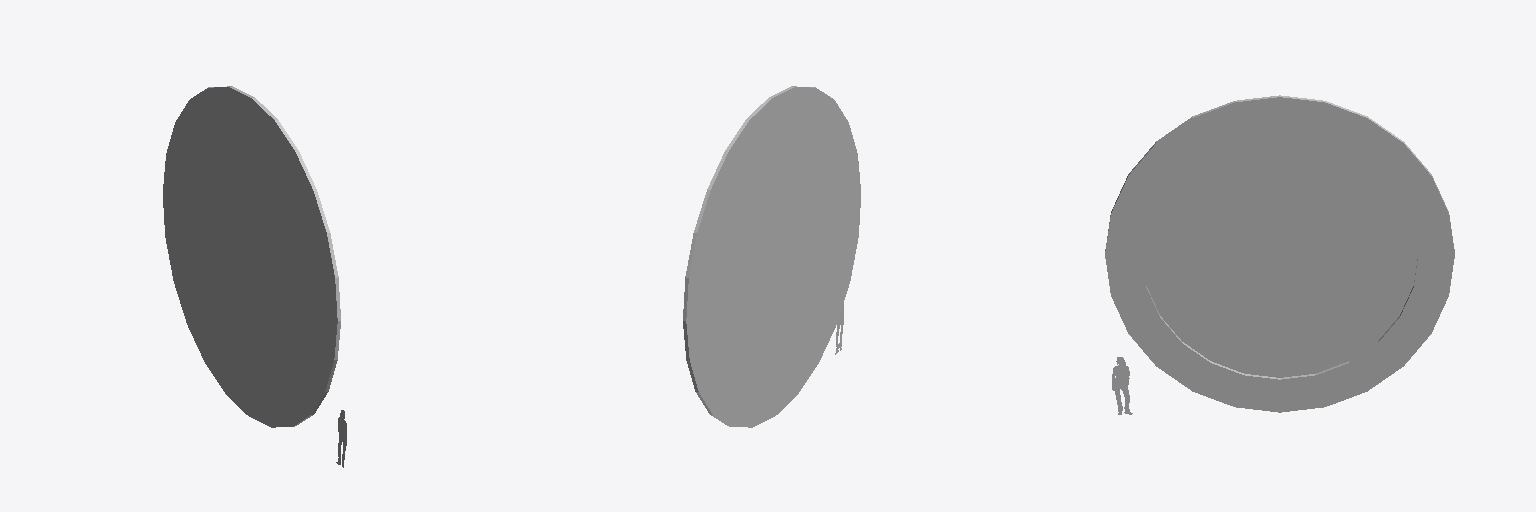
Rendered from portalgate.obj.
The picture shows the model from 3 angles: view 1: azimuth 30°, elevation 25°; view 2: azimuth 150°, elevation 25°; view 3: azimuth 270°, elevation 25°; orthographic projection.
Parts seen in each view (by area): view 1: __001; view 2: __001; view 3: __001, Susan_001.
Part boxes in pixels (left/top/right/bottom): __001: left=163, top=86, right=340, bottom=427; __001: left=683, top=86, right=860, bottom=427; __001: left=1105, top=95, right=1454, bottom=412; Susan_001: left=1112, top=357, right=1132, bottom=414.
Size of the model in its own units: 18.01 by 363 by 363.